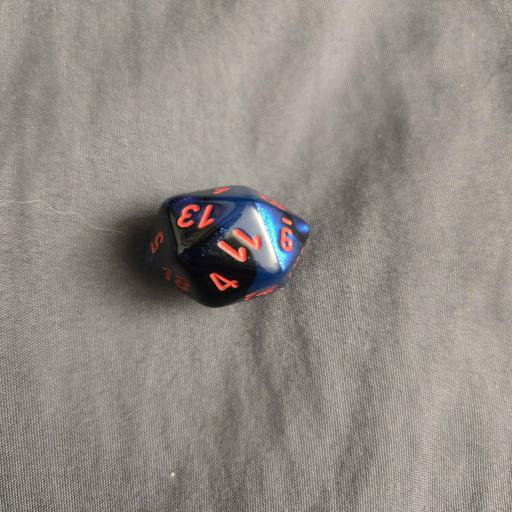twenty sided dice: (143, 186, 310, 308)
